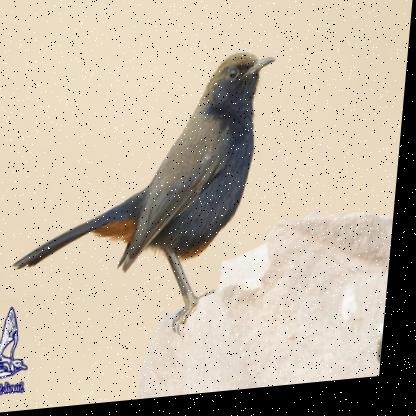Burung: (12, 53, 279, 352)
